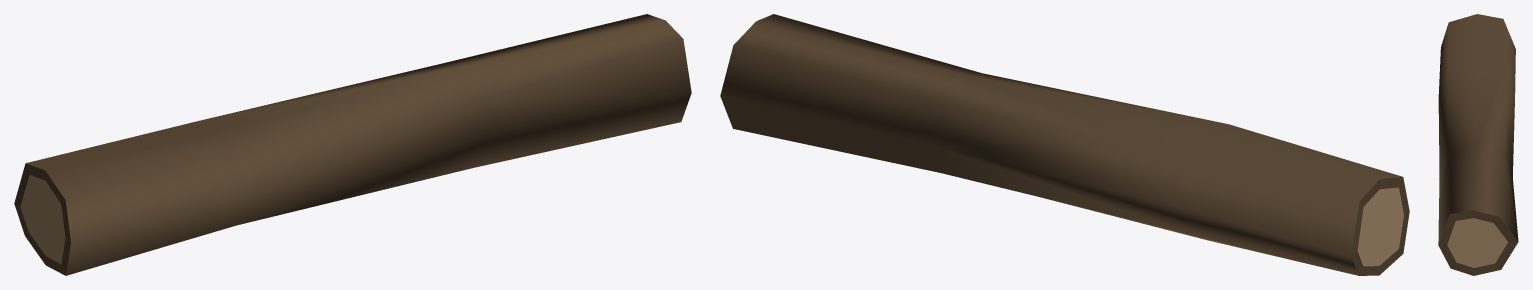
The model's file is Log.fbx.
The picture shows the model from 3 angles, left to right: view 1: azimuth 30°, elevation 25°; view 2: azimuth 150°, elevation 25°; view 3: azimuth 270°, elevation 25°; orthographic projection. The views are drawn at different scales.
Visible parts, largest first — view 1: Cylinder.016; view 2: Cylinder.016; view 3: Cylinder.016.
Boxes of the visible parts, x1=… form: Cylinder.016: x1=14, y1=14, x2=691, y2=275; Cylinder.016: x1=720, y1=14, x2=1409, y2=275; Cylinder.016: x1=1438, y1=14, x2=1518, y2=275.
Bounding box in the file's own units: 604 × 94.88 × 103.
